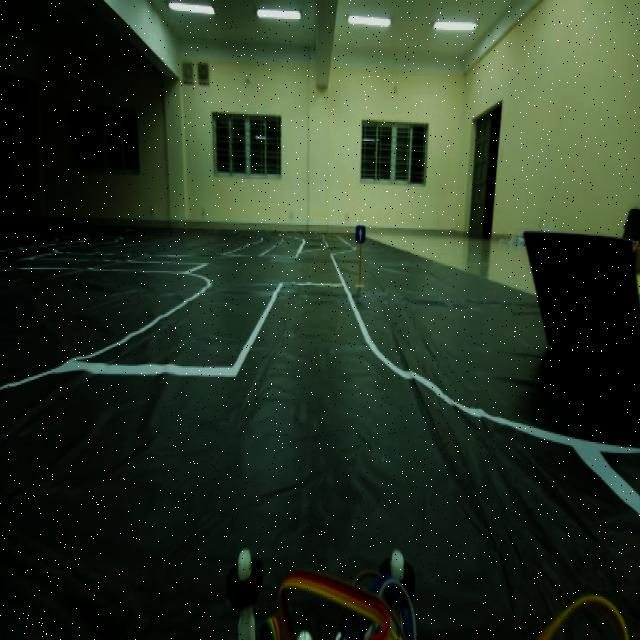onewayroad: (352, 220, 368, 258)
